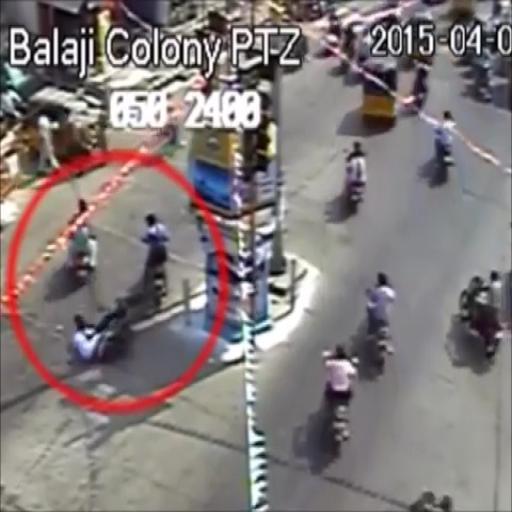小汽车: (362, 58, 399, 131)
自行车: (136, 210, 177, 316), (456, 270, 505, 355), (71, 302, 133, 364), (322, 346, 352, 461), (364, 274, 398, 372), (68, 198, 103, 289), (346, 138, 369, 211), (435, 110, 458, 181)
